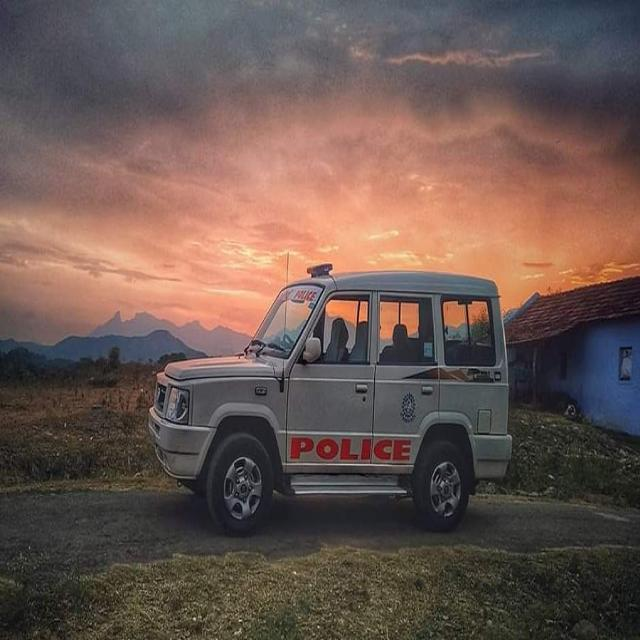Ambulance: (145, 257, 514, 538), (1, 480, 638, 578), (379, 320, 417, 367)
